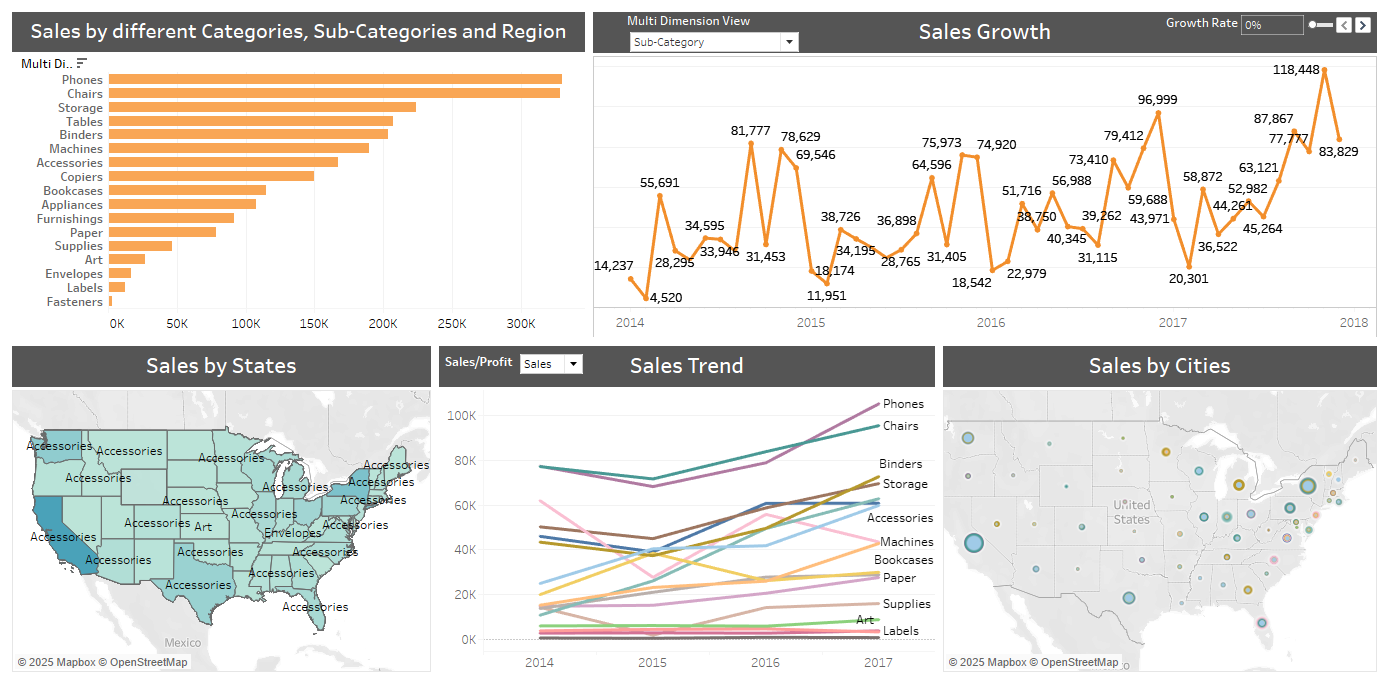

This screenshot's page, from the dashboard's own definition file:
{"tool":"tableau","page":{"name":"Superstore Dashboard","canvas":[1000,1000],"units":"permille","ordinal":0},"visuals":[{"type":"worksheet","title":"Sales/Profit by Different Aspects","mark":"Automatic","rows":["Calculation_827536486978531328"],"cols":["Calculation_827536487000260609"],"box":[8.1,15.3,416.3,484.7]},{"type":"worksheet","title":"Sales/Profit Change","mark":"Automatic","rows":["Calculation_827536487000260609","Calculation_827536487007801346"],"cols":["Order Date"],"box":[424.4,15.3,567.5,484.7]},{"type":"parameter","param":"[Parameters].[Parameter 1]","box":[451.4,17.5,126,62.9]},{"type":"parameter","param":"[Parameters].[Parameter 3]","box":[839.5,17.5,149.8,57]},{"type":"worksheet","title":"Sales/Proft by States","mark":"Automatic","box":[8.1,500,305.6,484.7]},{"type":"worksheet","title":"Sales/Profit Trend","mark":"Automatic","rows":["Calculation_827536487000260609"],"cols":["Order Date"],"box":[313.7,500,361.5,484.7]},{"type":"worksheet","title":"Sales/Profit by Cities","mark":"Automatic","box":[675.2,500,316.7,484.7]},{"type":"parameter","param":"[Parameters].[Parameter 2]","box":[320.4,513.2,101.5,40.9]}]}

Visuals, with their boxes on the dashboard's canvas, which has no fixed pixel size, in thousandths of its width and height (x1, y1, x2, y2). These are canvas units, not pixel positions in the 1387x684 screenshot, which may show the page scaled, cropped or inside an application window:
"Sales/Profit by Different Aspects" worksheet: x1=8, y1=15, x2=424, y2=500
"Sales/Profit Change" worksheet: x1=424, y1=15, x2=992, y2=500
parameter: x1=451, y1=18, x2=577, y2=80
parameter: x1=840, y1=18, x2=989, y2=74
"Sales/Proft by States" worksheet: x1=8, y1=500, x2=314, y2=985
"Sales/Profit Trend" worksheet: x1=314, y1=500, x2=675, y2=985
"Sales/Profit by Cities" worksheet: x1=675, y1=500, x2=992, y2=985
parameter: x1=320, y1=513, x2=422, y2=554
